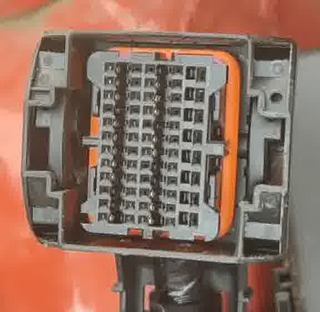connector: (21, 29, 297, 264)
